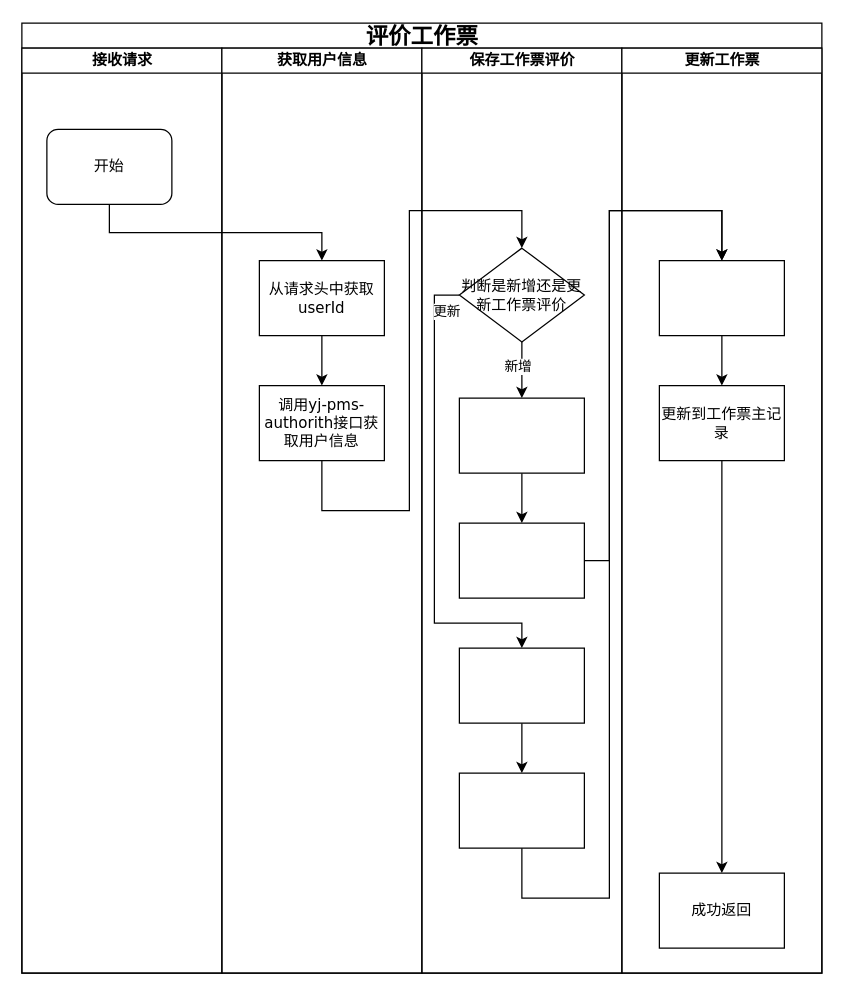
Some shapes in this 844 by 995 pixel diagram are drawn without their labels. The centre of each missing label's shape, as x and y in pixels:
"新增工作票评价" goes at (x=521, y=435).
"新增工作票评价明细" goes at (x=521, y=560).
"更新工作票评价" goes at (x=521, y=685).
"更新工作票评价明细" goes at (x=521, y=810).
"遍历工作票评价拼接工作票评价结果、工作票评价人" goes at (x=721, y=297).
